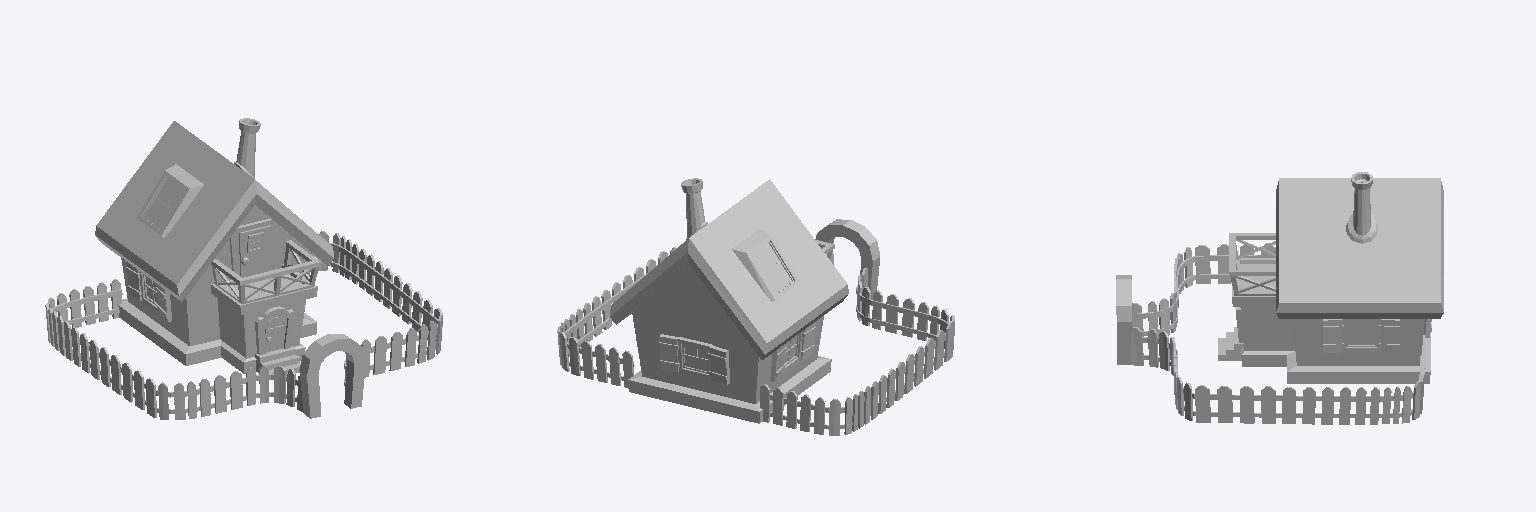
File: House_10.obj
The picture shows the model from 3 angles: view 1: azimuth 30°, elevation 25°; view 2: azimuth 150°, elevation 25°; view 3: azimuth 270°, elevation 25°; orthographic projection.
Visible parts, largest first — view 1: House_10; view 2: House_10; view 3: House_10.
Boxes of the visible parts, <box> form: House_10: <box>45,118,442,419</box>; House_10: <box>557,178,954,435</box>; House_10: <box>1116,172,1443,424</box>.
Size of the model in its own units: 681 by 422 by 647.